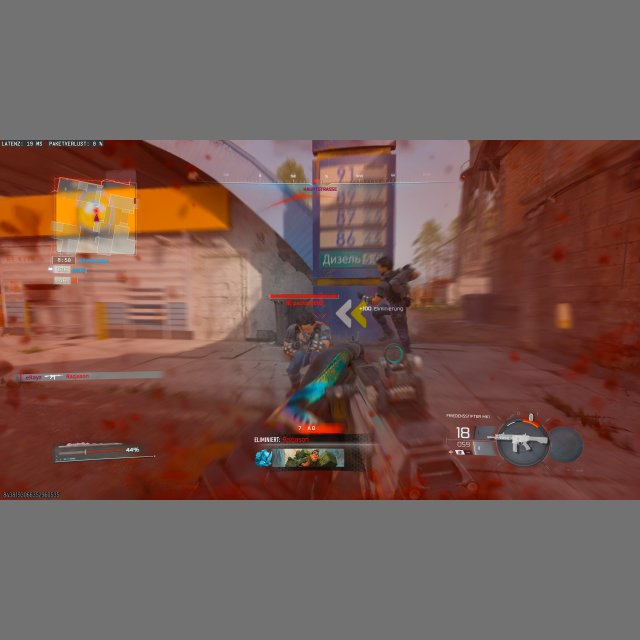head: (297, 311, 317, 331), (375, 256, 393, 276)
player: (368, 256, 419, 354), (282, 310, 330, 400)
